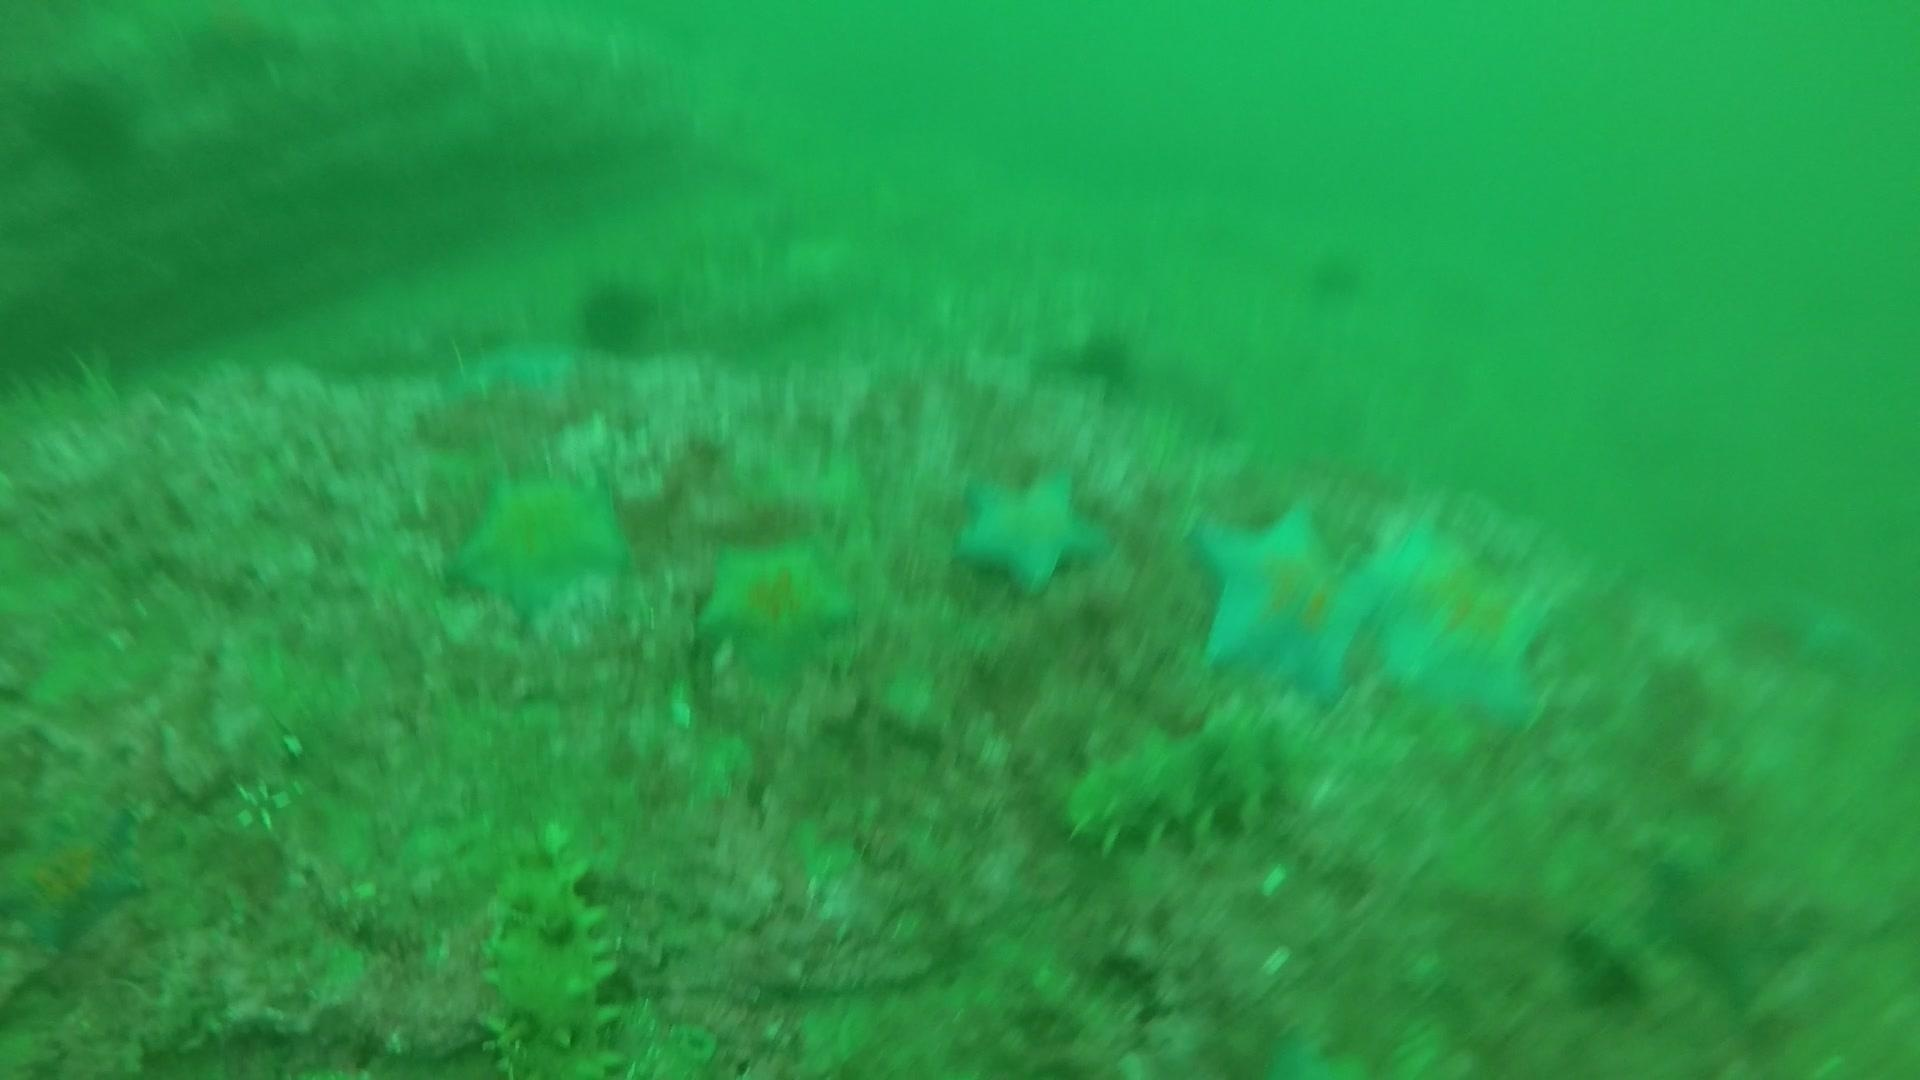echinus: (26, 70, 141, 173), (1, 280, 94, 402), (571, 273, 662, 363), (1065, 322, 1142, 394), (1302, 243, 1371, 305)
holothurian: (1054, 703, 1336, 856), (472, 849, 629, 1072)
starfish: (1349, 512, 1559, 738), (1183, 497, 1394, 709), (444, 463, 636, 626), (1640, 839, 1811, 996), (692, 538, 858, 688), (947, 463, 1116, 600), (3, 803, 152, 957), (429, 336, 584, 415)
